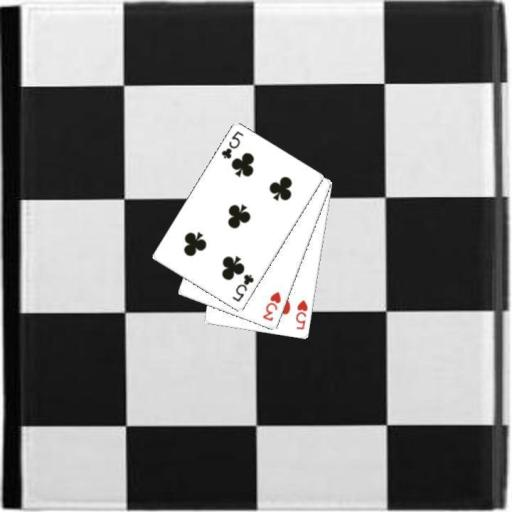card-corner: (218, 128, 245, 161), (229, 271, 255, 304), (260, 289, 282, 323), (293, 298, 309, 332)
